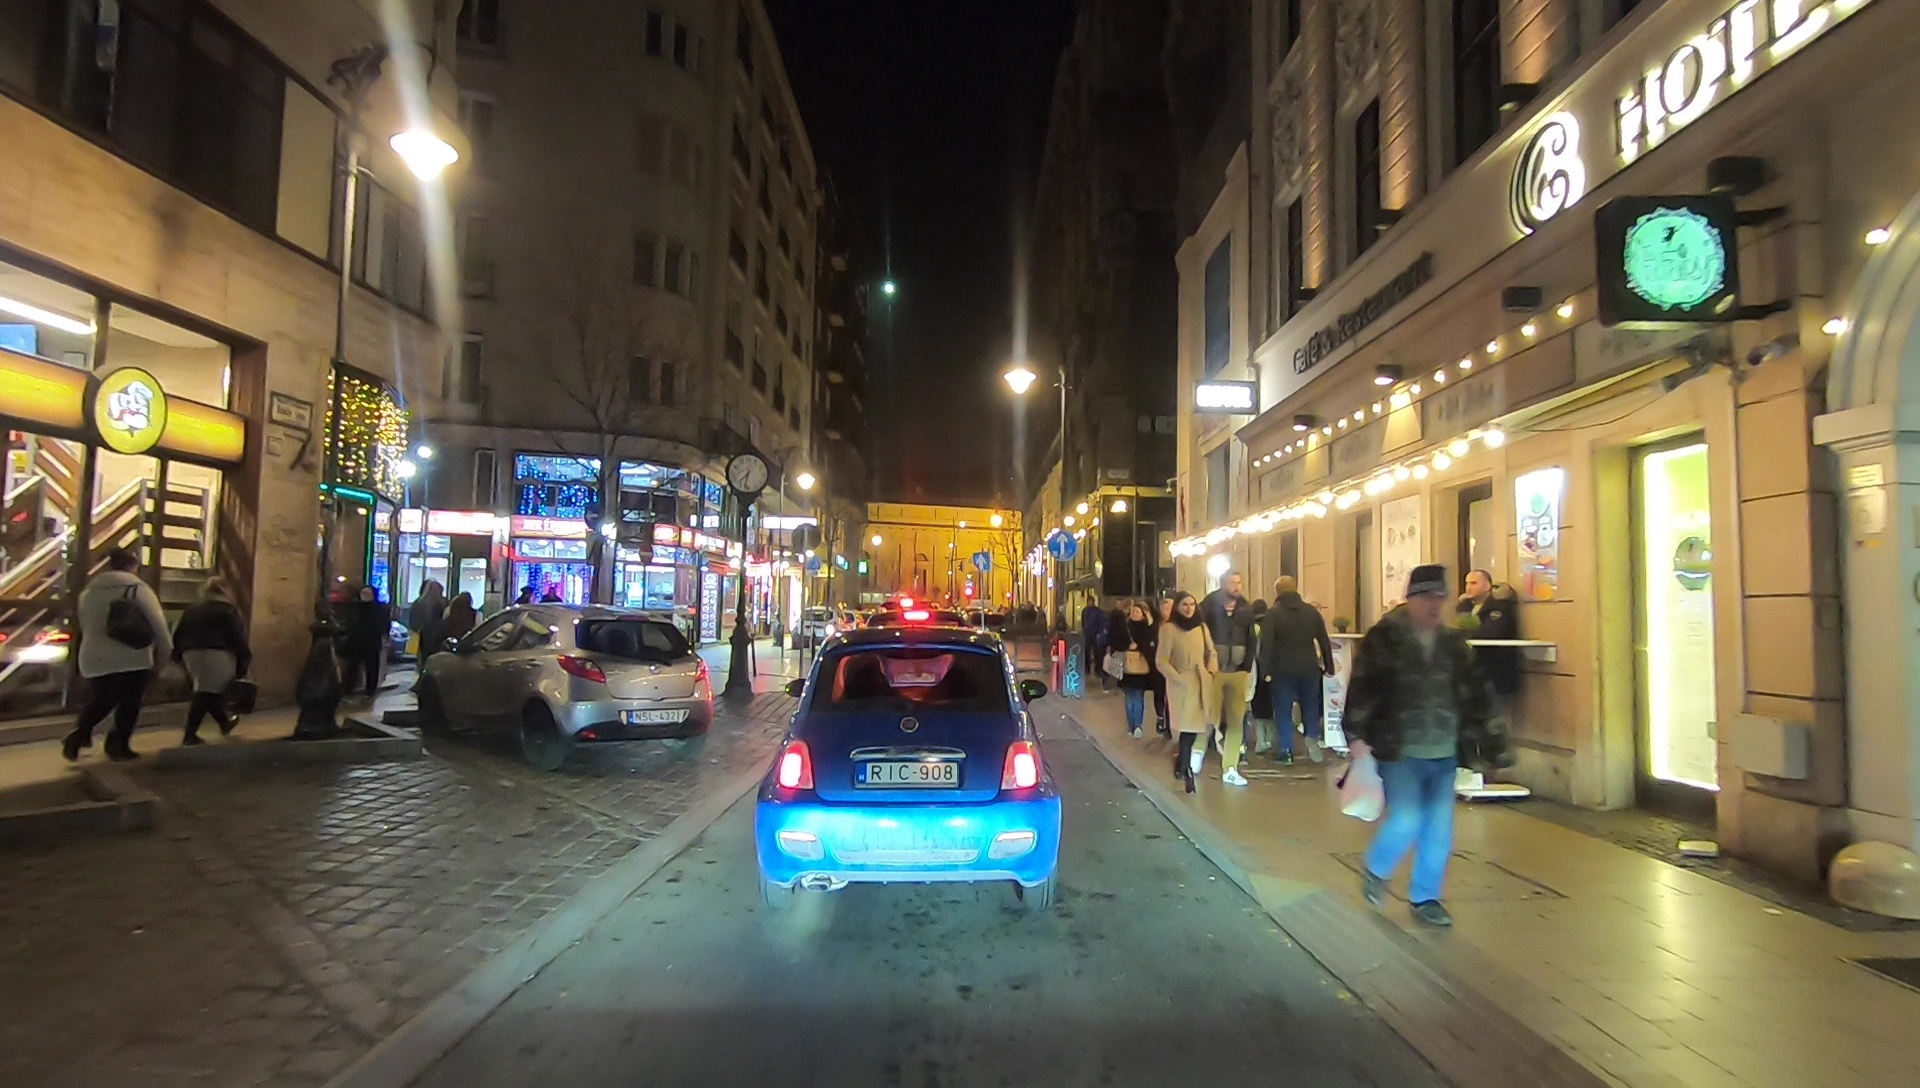person: (1358, 574, 1478, 921), (73, 550, 152, 765), (1269, 574, 1330, 769), (182, 571, 247, 749), (1160, 602, 1212, 795), (1206, 573, 1249, 786), (1117, 606, 1152, 737), (347, 585, 380, 695), (447, 583, 478, 694), (420, 577, 443, 689), (1110, 589, 1132, 678), (1083, 595, 1104, 678)
